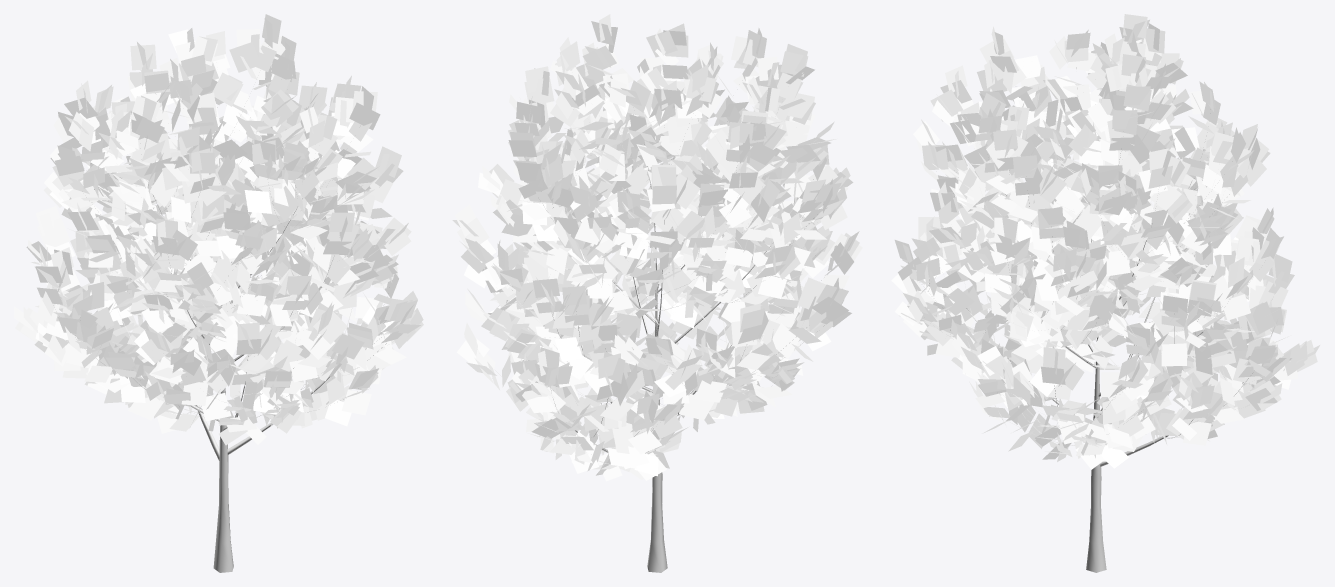
The model's file is maple-tree.glb.
3 views of the same model, side by side, from view 1: azimuth 30°, elevation 25°; view 2: azimuth 150°, elevation 25°; view 3: azimuth 270°, elevation 25° (orthographic).
Visible parts, largest first — view 1: merged_material_3, merged_material_2; view 2: merged_material_3, merged_material_2; view 3: merged_material_3, merged_material_2.
Boxes of the visible parts, x1,y1,x2,y2 form: merged_material_3: (14,14,423,445); merged_material_2: (65,106,386,572); merged_material_3: (452,14,862,481); merged_material_2: (495,109,828,572); merged_material_3: (891,14,1319,469); merged_material_2: (928,67,1272,572).
Size of the model in its own units: 239 by 325 by 242.
2 materials, 2 textured.
